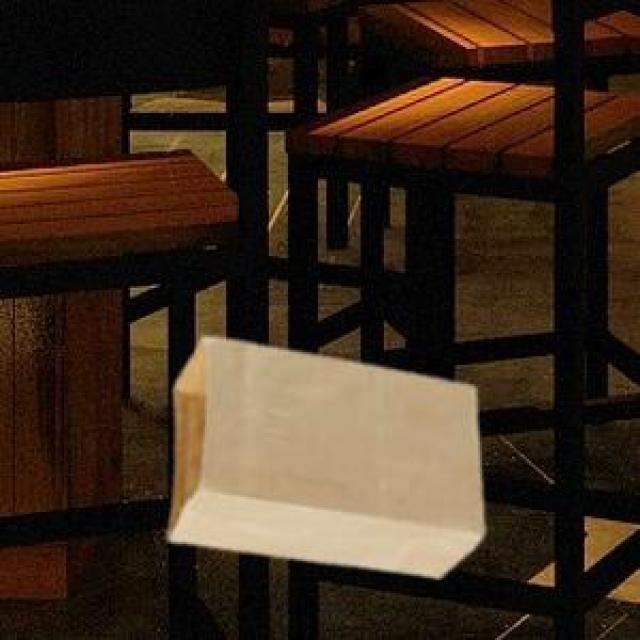paper: (164, 333, 480, 574)
